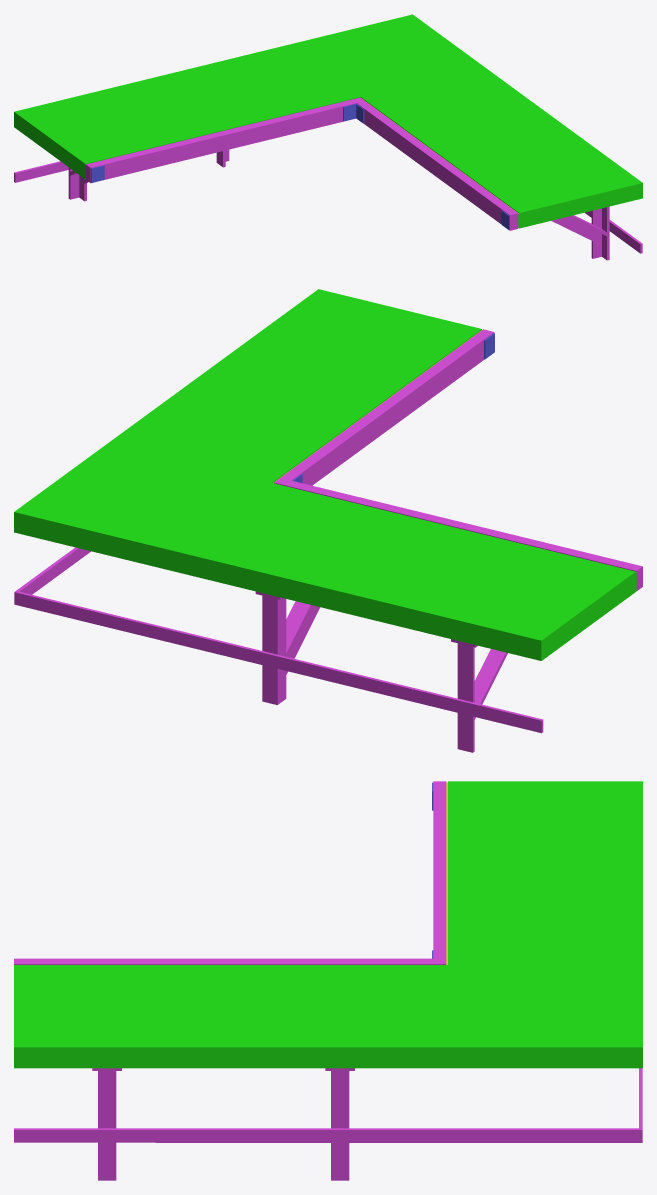
Rendered from Desk_10_Corner.fbx.
3 renders of one model, top to bottom at view 1: azimuth 30°, elevation 25°; view 2: azimuth 150°, elevation 25°; view 3: azimuth 270°, elevation 25°, orthographic. The views are drawn at different scales.
Visible parts, largest first — view 1: Desk_10_Corner; view 2: Desk_10_Corner; view 3: Desk_10_Corner.
Part boxes in pixels (x1,y1,x2,y2): Desk_10_Corner: [14, 14, 642, 260]; Desk_10_Corner: [14, 289, 642, 752]; Desk_10_Corner: [14, 781, 642, 1180].
Size of the model in its own units: 274 by 65.02 by 274.
